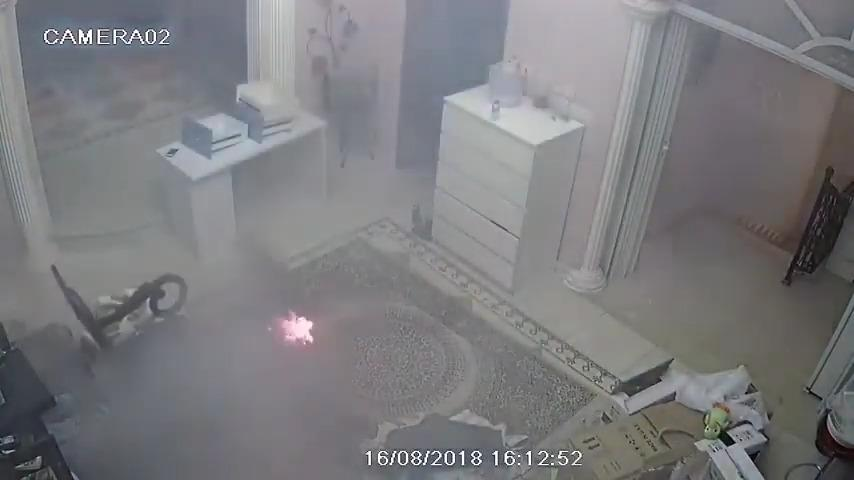fire: (276, 311, 315, 346)
